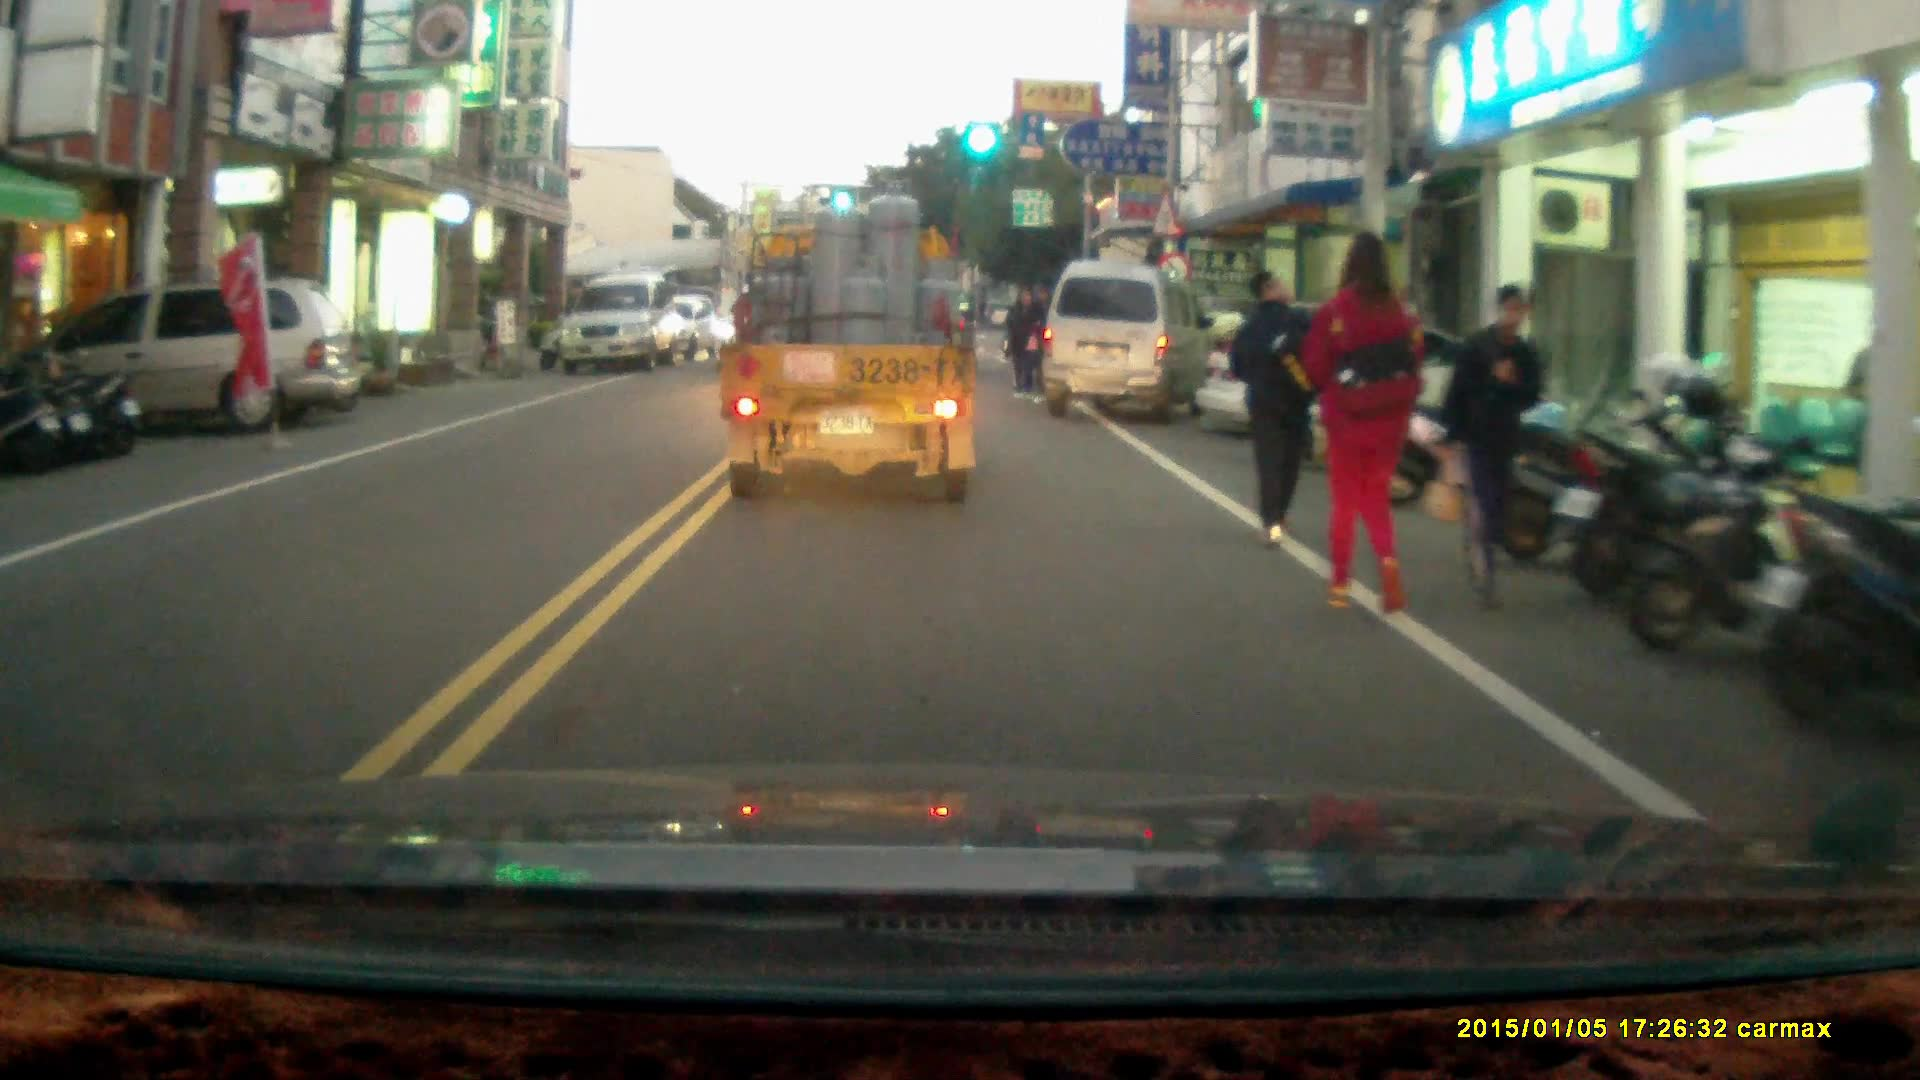pedestrian: (1300, 227, 1423, 619), (1441, 281, 1545, 617), (1227, 269, 1326, 553), (1001, 285, 1037, 400)
vehicle: (716, 173, 986, 512), (30, 279, 370, 443), (1042, 259, 1208, 421), (563, 274, 689, 378)
